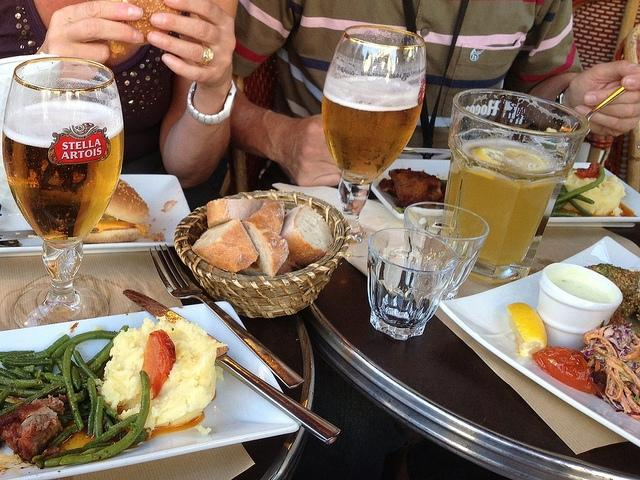lemon: (506, 302, 548, 360), (506, 148, 546, 164), (476, 148, 504, 166)
